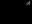person: (25, 1, 31, 7)
